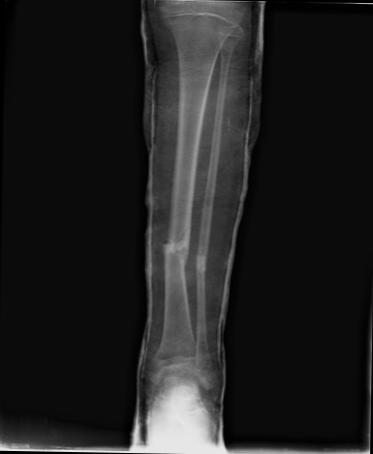fractured: (157, 240, 190, 275), (192, 248, 205, 276)
